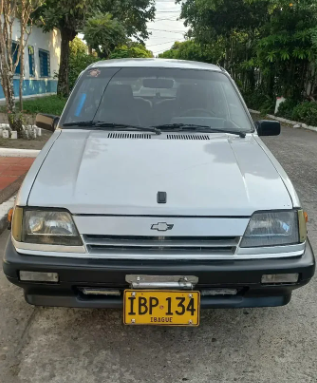placa: (122, 289, 201, 330)
